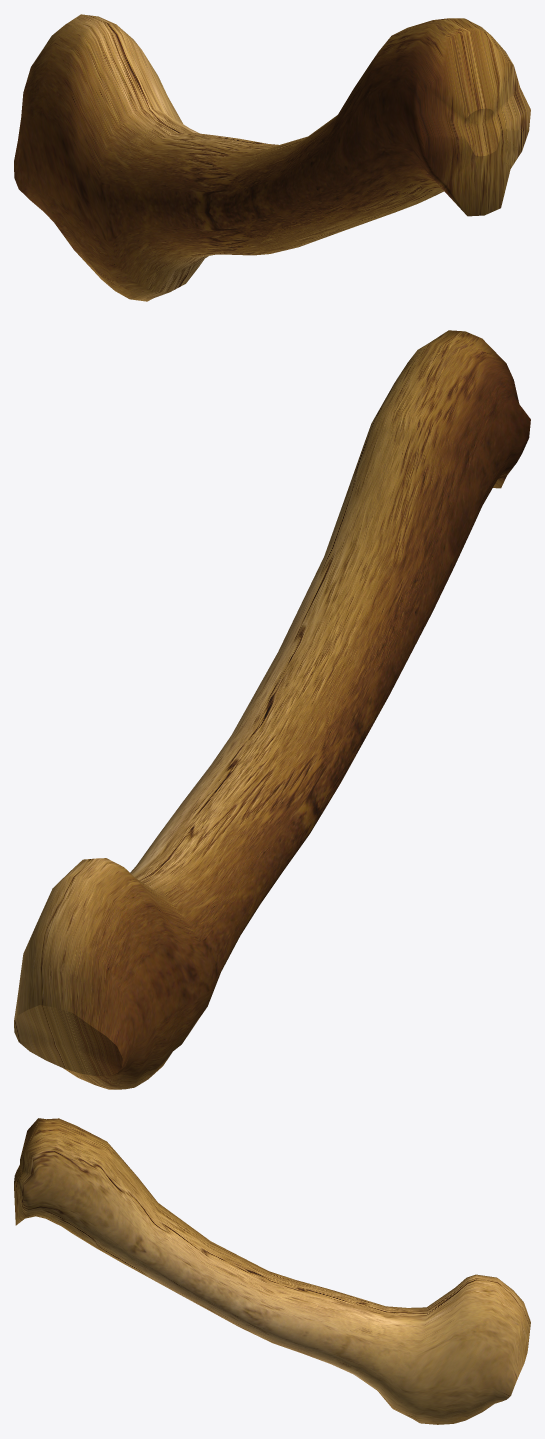
Rendered from osso.fbx.
The picture shows the model from 3 angles, top to bottom: view 1: azimuth 30°, elevation 25°; view 2: azimuth 150°, elevation 25°; view 3: azimuth 270°, elevation 25°; orthographic projection. The views are drawn at different scales.
Parts seen in each view (by area): view 1: pCylinder1; view 2: pCylinder1; view 3: pCylinder1.
Part boxes in pixels (x1,y1,x2,y2): pCylinder1: [14, 14, 530, 301]; pCylinder1: [14, 330, 530, 1089]; pCylinder1: [14, 1118, 530, 1424].
Size of the model in its own units: 3.42 by 15.22 by 23.57.
